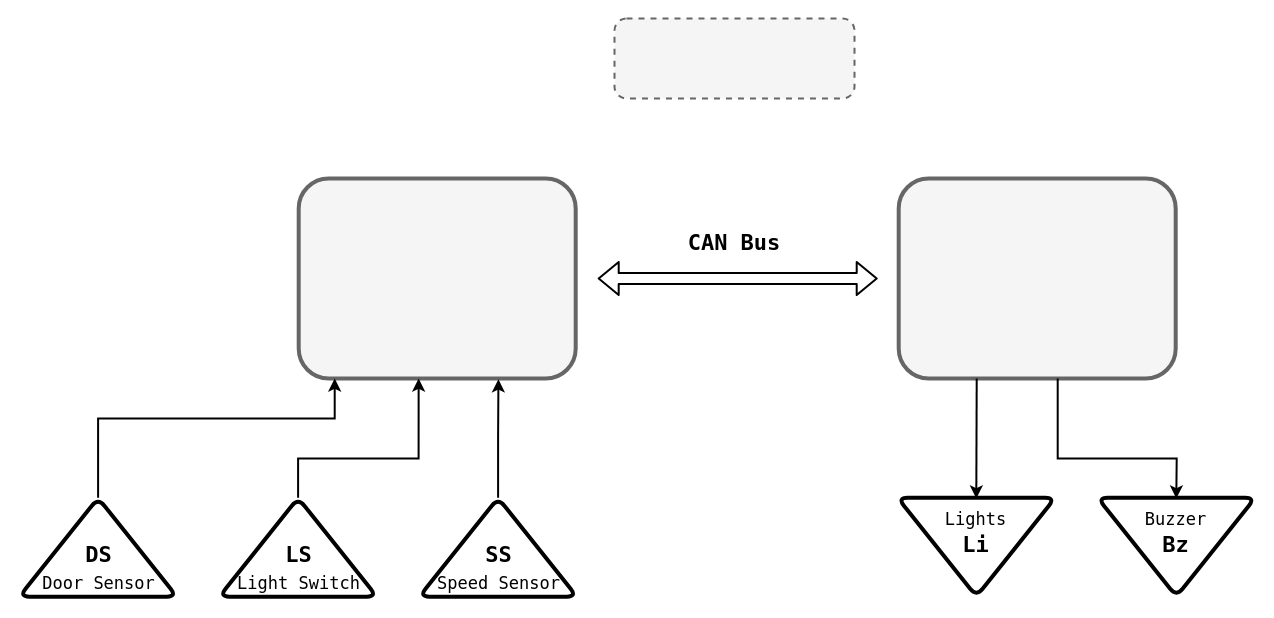
This 1274x618 diagram has some shape labels left out. Each missing label, with the centre of its shape:
Automotive Door Control System: (x=734, y=58)
ECU 1 - Monitors Sensors - Sends Status CAN messages: (x=436, y=278)
ECU 2 - Operates lights & buzzer - Monitors data receivered over CAN: (x=1036, y=278)
